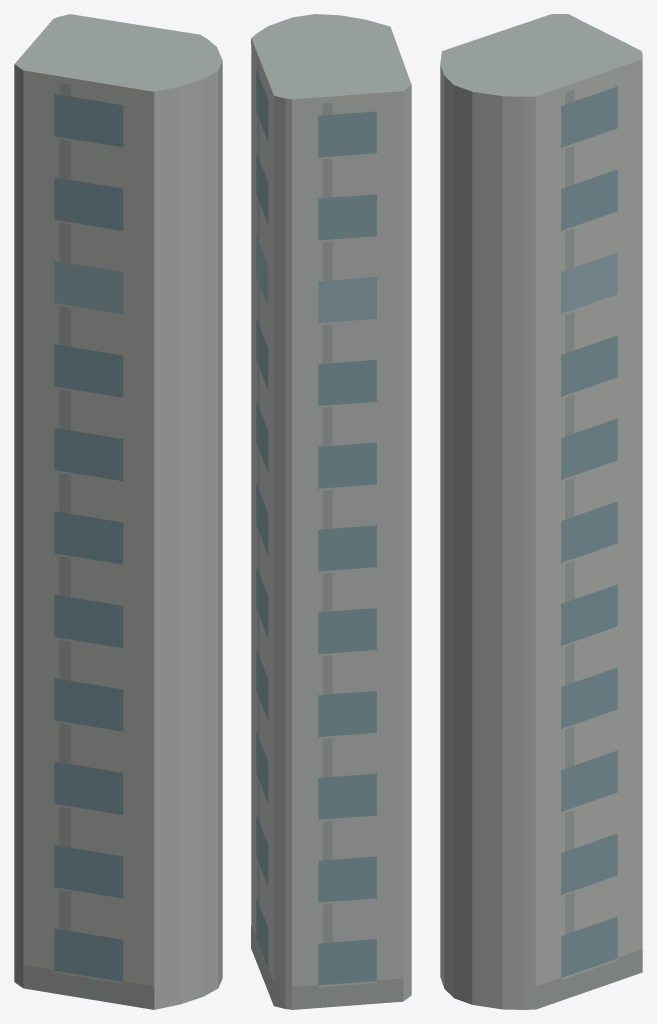
Rendered from survey-upis-32646717.glb.
3 renders of one model, left to right at view 1: azimuth 30°, elevation 25°; view 2: azimuth 150°, elevation 25°; view 3: azimuth 270°, elevation 25°, orthographic.
Parts seen in each view (by area): view 1: survey-upis-32646717.tmp; view 2: survey-upis-32646717.tmp; view 3: survey-upis-32646717.tmp.
Boxes of the visible parts, box(x1,y1,x2,y2) form: survey-upis-32646717.tmp: box(14, 14, 222, 1009); survey-upis-32646717.tmp: box(251, 14, 411, 1009); survey-upis-32646717.tmp: box(440, 14, 642, 1009).
Bounding box in the file's own units: 6.52 × 33.55 × 6.74.
